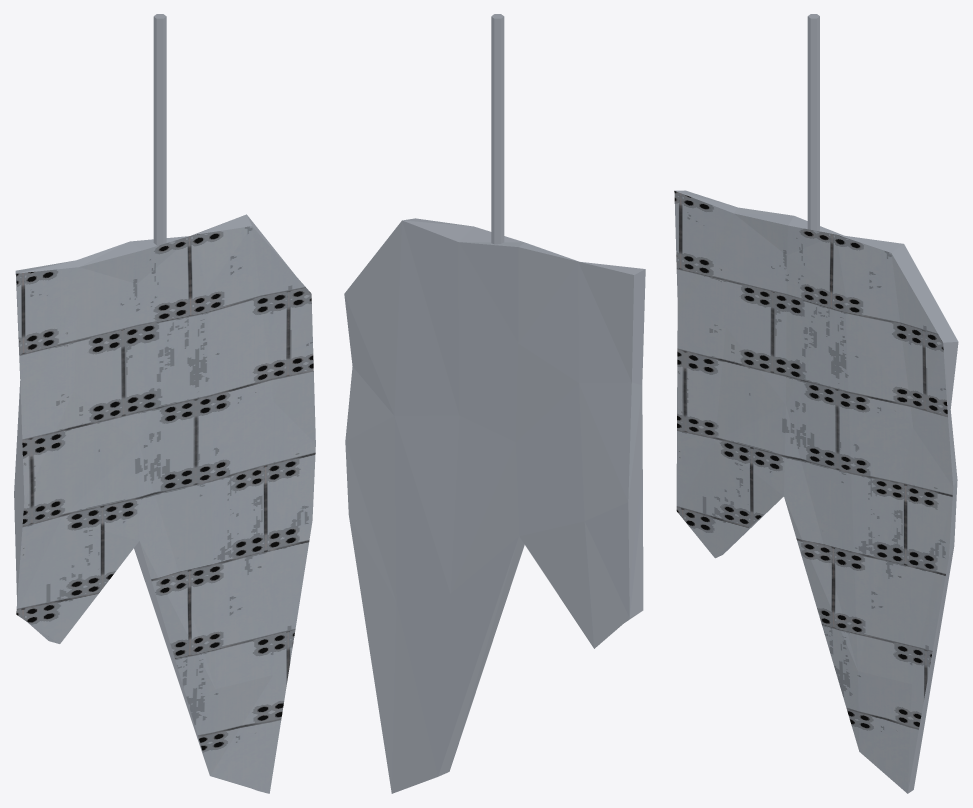
The model's file is plat3.glb.
3 renders of one model, left to right at view 1: azimuth 30°, elevation 25°; view 2: azimuth 150°, elevation 25°; view 3: azimuth 330°, elevation 25°, orthographic. The views are drawn at different scales.
Visible parts, largest first — view 1: Solar_big_broken_2; view 2: Solar_big_broken_2; view 3: Solar_big_broken_2.
Boxes of the visible parts, x1=… form: Solar_big_broken_2: x1=14, y1=14, x2=315, y2=793; Solar_big_broken_2: x1=344, y1=14, x2=645, y2=793; Solar_big_broken_2: x1=674, y1=14, x2=958, y2=793.
Bounding box in the file's own units: 3.91 × 10.04 × 0.331.
Materials: 1 (1 with a texture image).
